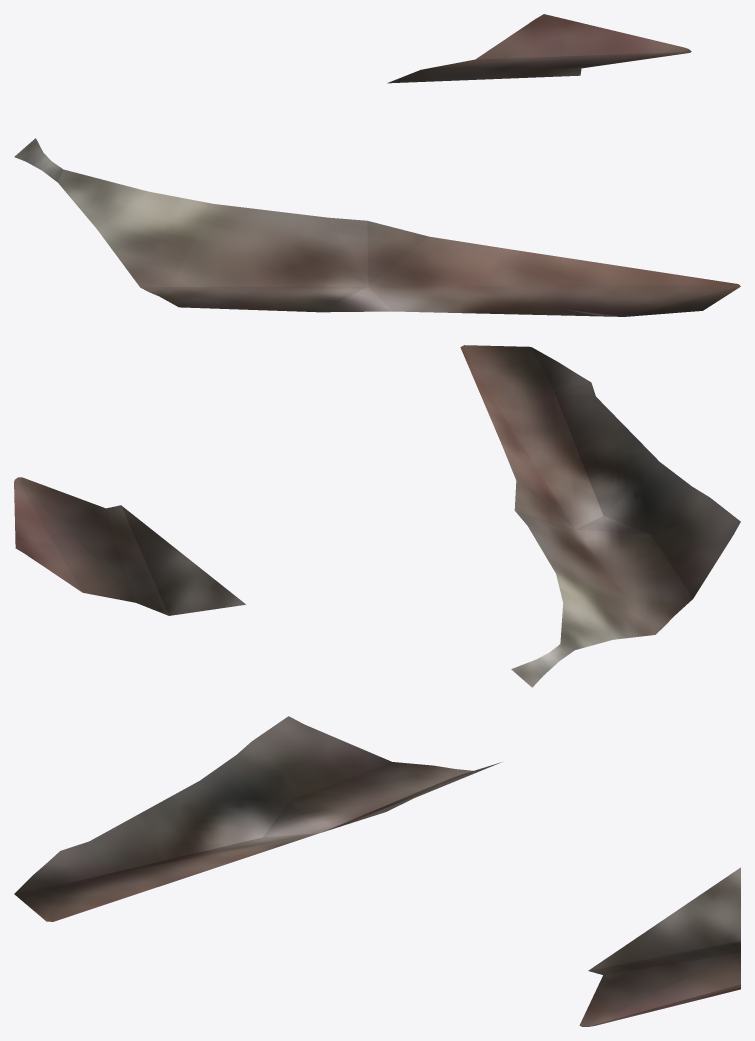
The picture shows the model from 3 angles, top to bottom: view 1: azimuth 30°, elevation 25°; view 2: azimuth 150°, elevation 25°; view 3: azimuth 270°, elevation 25°; orthographic projection. The views are drawn at different scales.
Size of the model in its own units: 0.272 by 0.0224 by 0.2689.
1 material, 1 textured.
